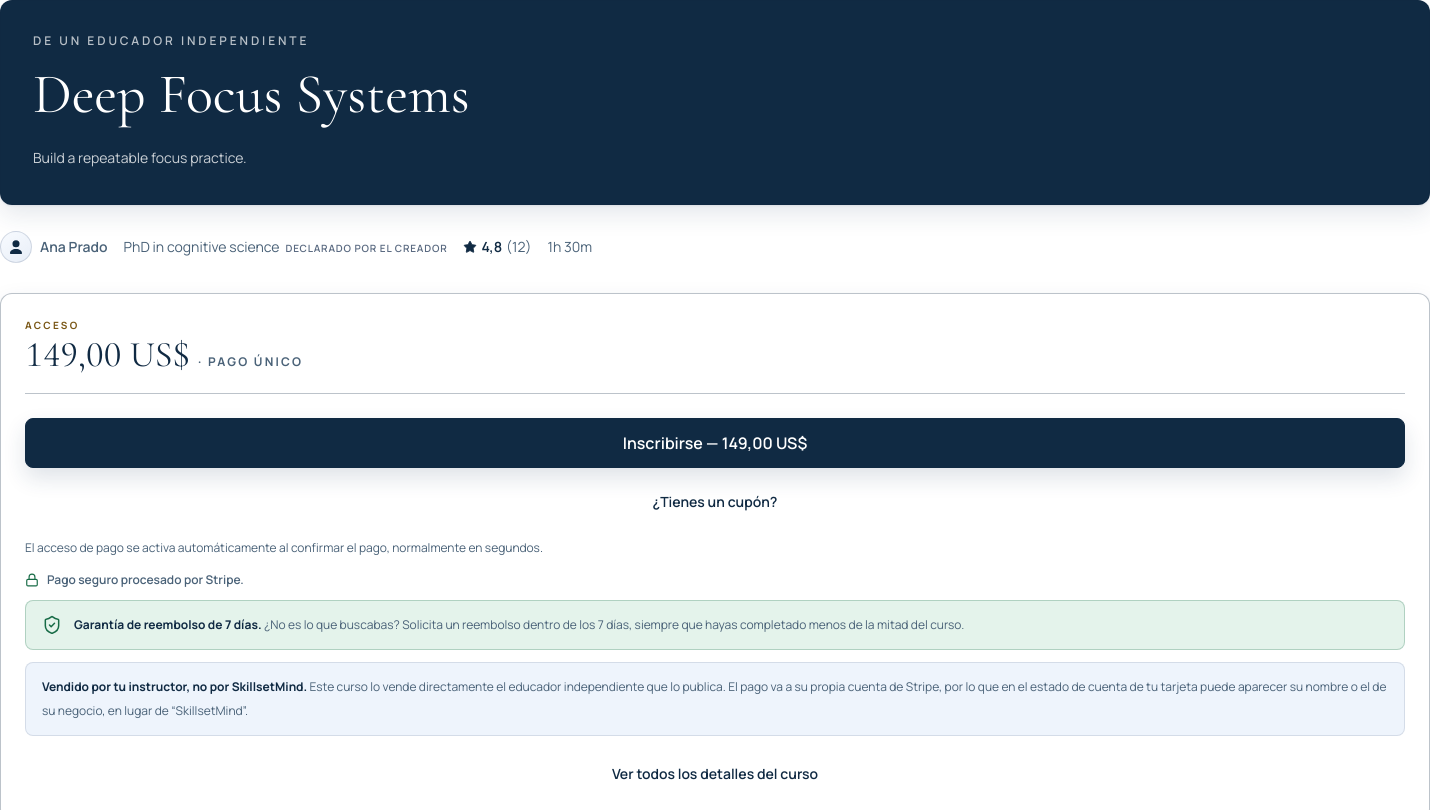
checkout errors in the current locale › shows a safe actionable coupon message for This coupon has expired.
What coordinates should you click on to do the following:
click the button "Inscribirse — 149,00 US$"
I would click on:
 (715, 443)
Its box is [25, 418, 1405, 468].
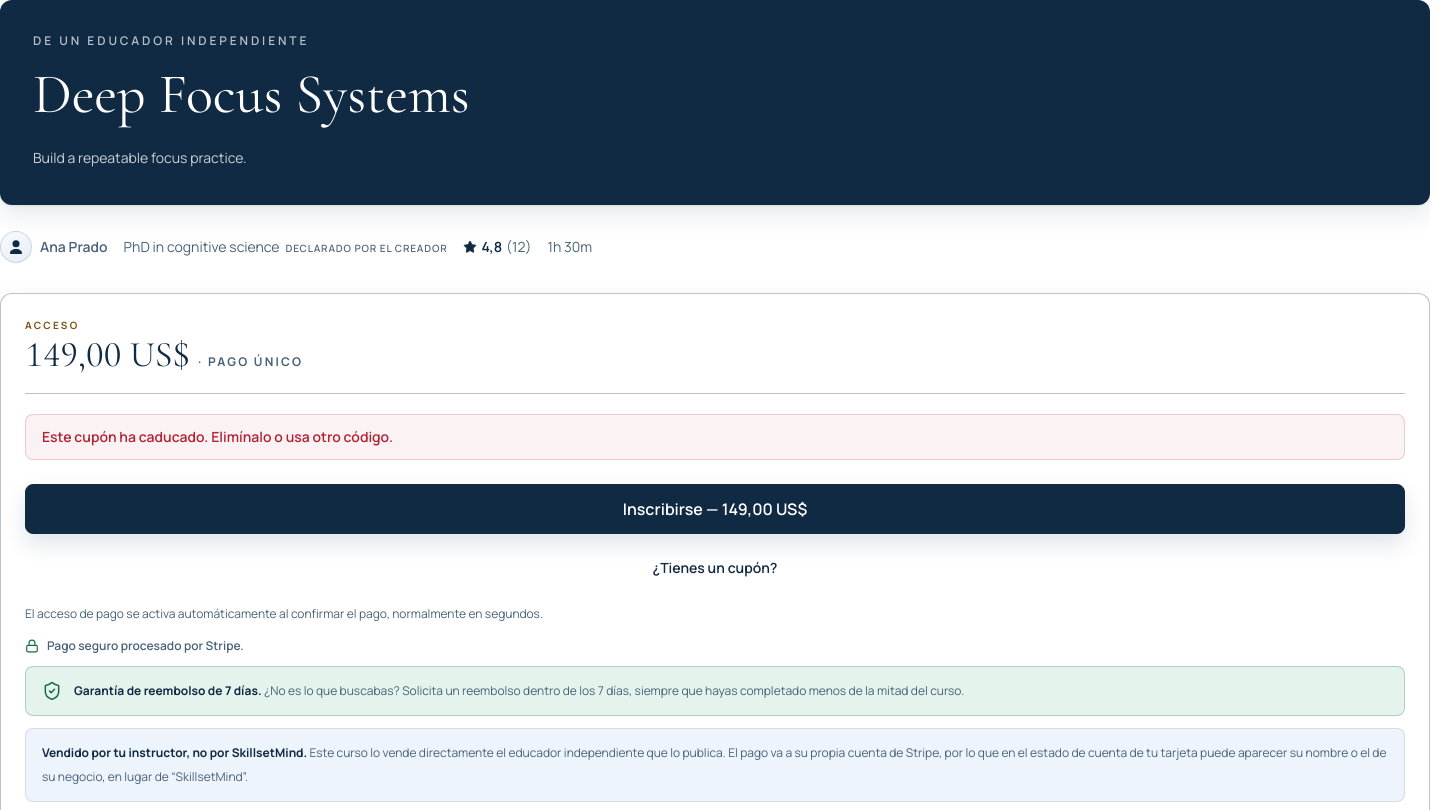
expect the button "Inscribirse — 149,00 US$" is enabled: met, box [25, 484, 1405, 534]
expect the text "Este cupón ha caducado. Elimínalo o usa otro código." is shown: met, box [25, 414, 1405, 460]
